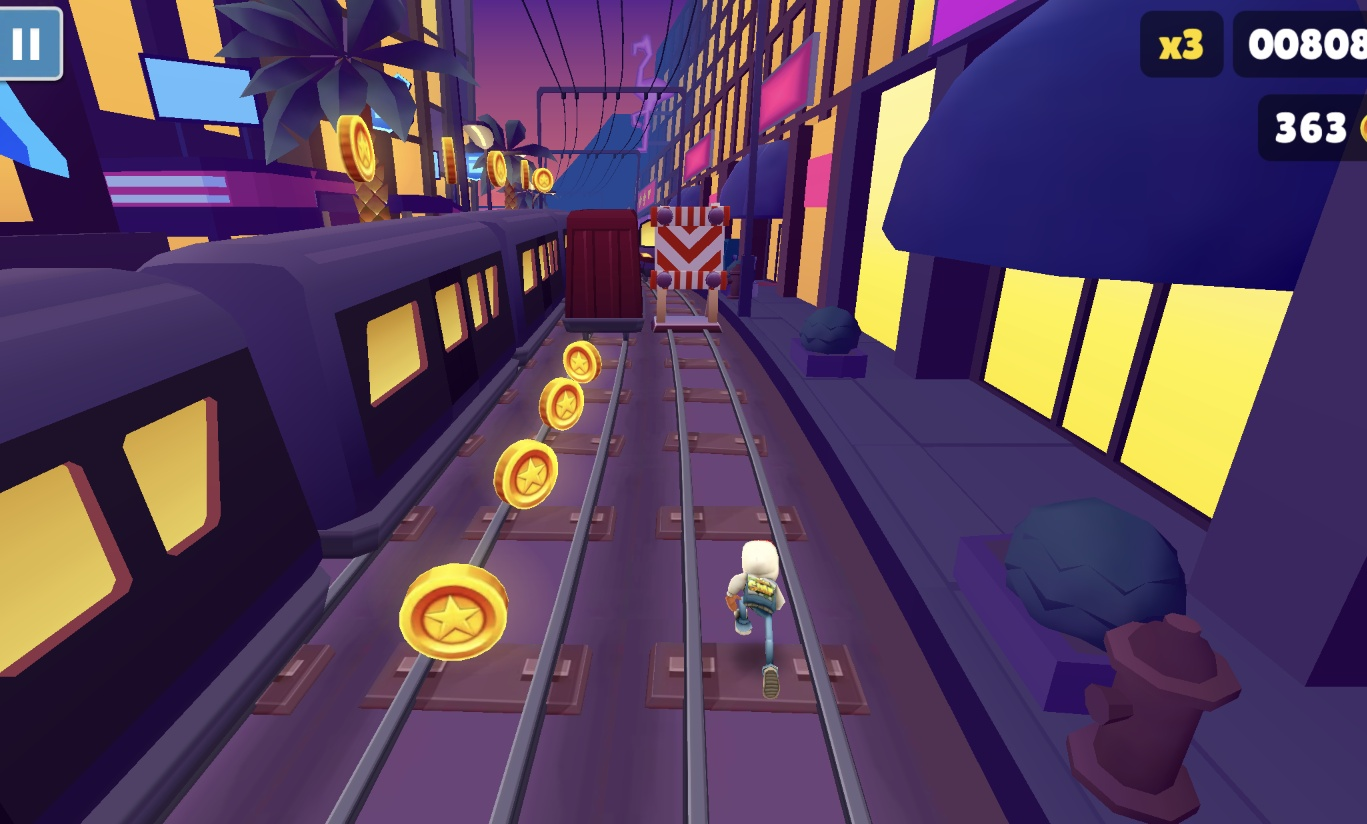overhead_barrier: (648, 204, 729, 334)
train: (0, 208, 566, 824), (562, 209, 644, 335), (638, 218, 657, 295)
